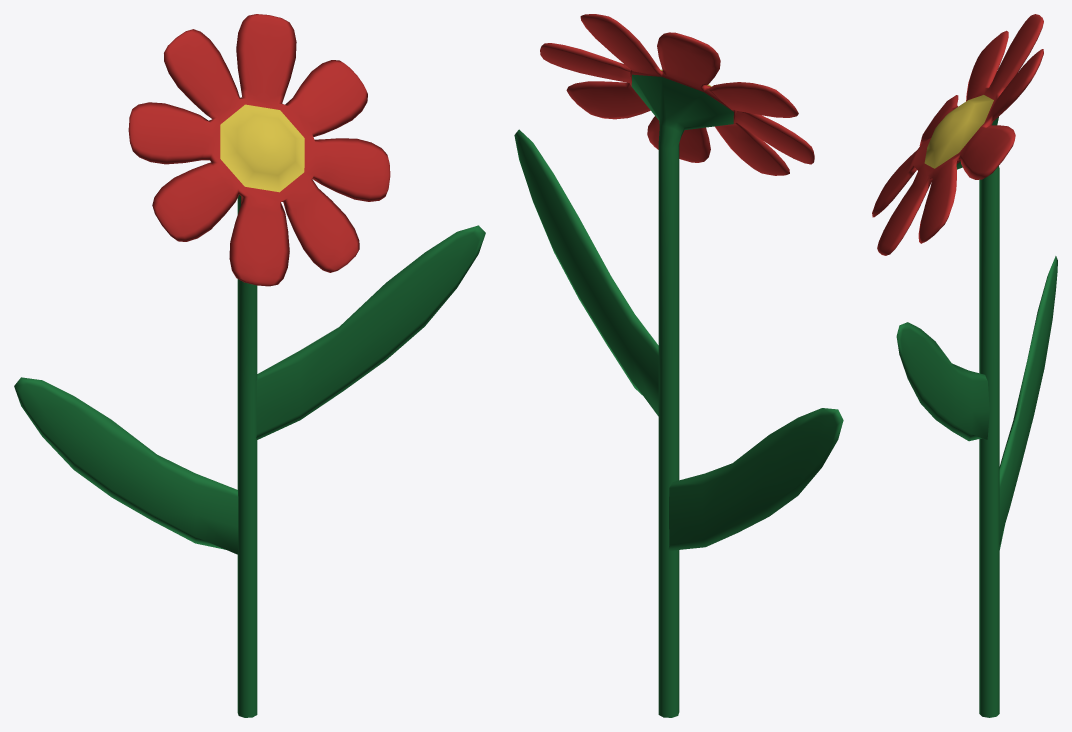
File: uploads_files_797169_cartoon_flower.fbx
The picture shows the model from 3 angles, left to right: view 1: azimuth 30°, elevation 25°; view 2: azimuth 150°, elevation 25°; view 3: azimuth 270°, elevation 25°; orthographic projection. The views are drawn at different scales.
Parts seen in each view (by area): view 1: flower; view 2: flower; view 3: flower.
Boxes of the visible parts, box(x1,y1,x2,y2) form: flower: box(14, 14, 485, 717); flower: box(514, 14, 843, 717); flower: box(872, 14, 1057, 717).
Size of the model in its own units: 0.2233 by 0.3658 by 0.0909.
